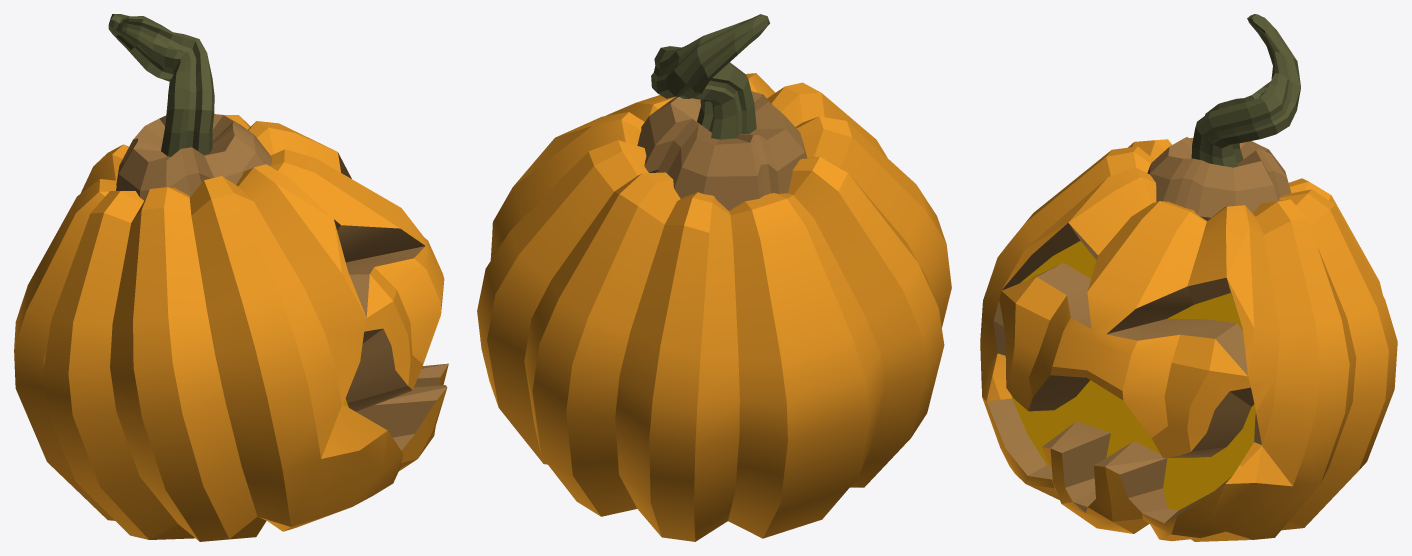
File: ea_pumpkin_01a_pre_2_lev1.glb
3 renders of one model, left to right at view 1: azimuth 30°, elevation 25°; view 2: azimuth 150°, elevation 25°; view 3: azimuth 270°, elevation 25°, orthographic. The views are drawn at different scales.
Parts seen in each view (by area): view 1: ea_pumpkin_01a_pre_2_lev1; view 2: ea_pumpkin_01a_pre_2_lev1; view 3: ea_pumpkin_01a_pre_2_lev1.
Part boxes in pixels (x1,y1,x2,y2): ea_pumpkin_01a_pre_2_lev1: [14, 14, 448, 541]; ea_pumpkin_01a_pre_2_lev1: [477, 14, 951, 541]; ea_pumpkin_01a_pre_2_lev1: [980, 14, 1397, 541].
Size of the model in its own units: 0.9867 by 1.25 by 1.
Materials: 2 (1 with a texture image).
